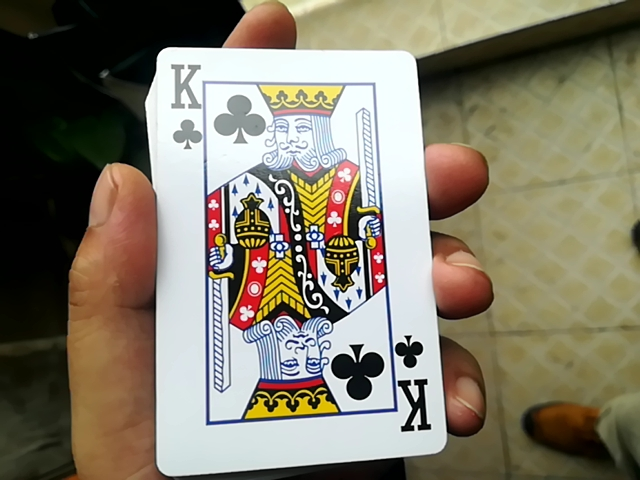mh k: (137, 35, 443, 463)
